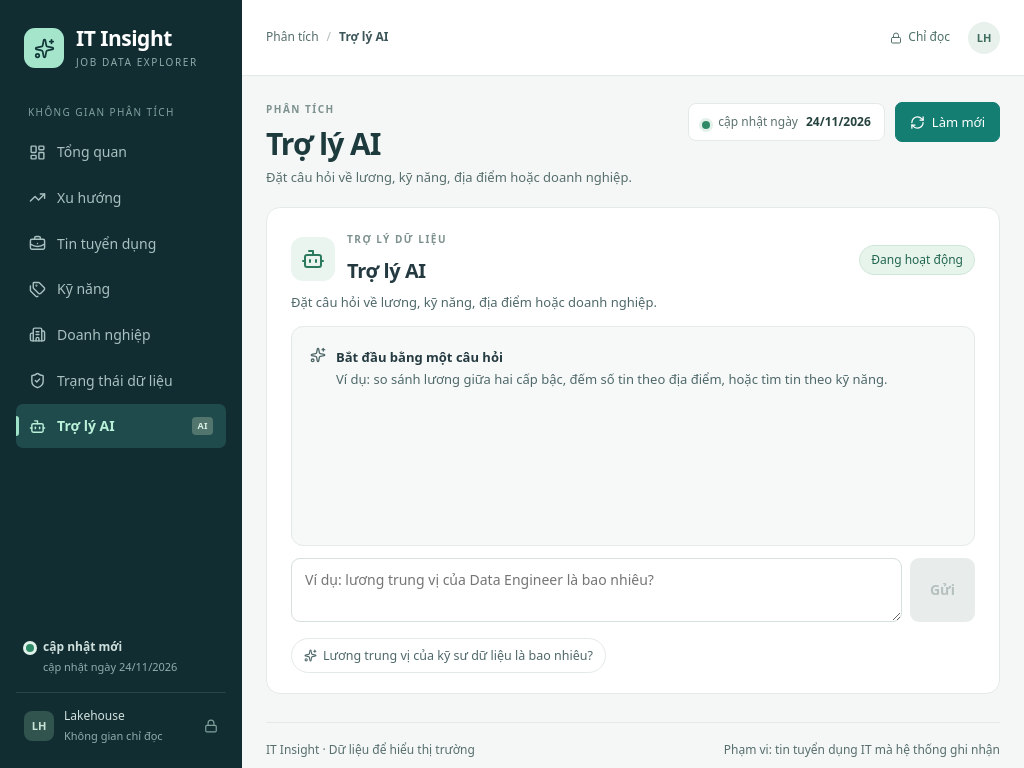
assistant rendering (stubbed API) › renders bold, a real table and job actions without exposing SQL
Type "Lương Data Engineer?" into the text box named "Câu hỏi cho trợ lý AI" at (596, 590), box [291,558,902,622]
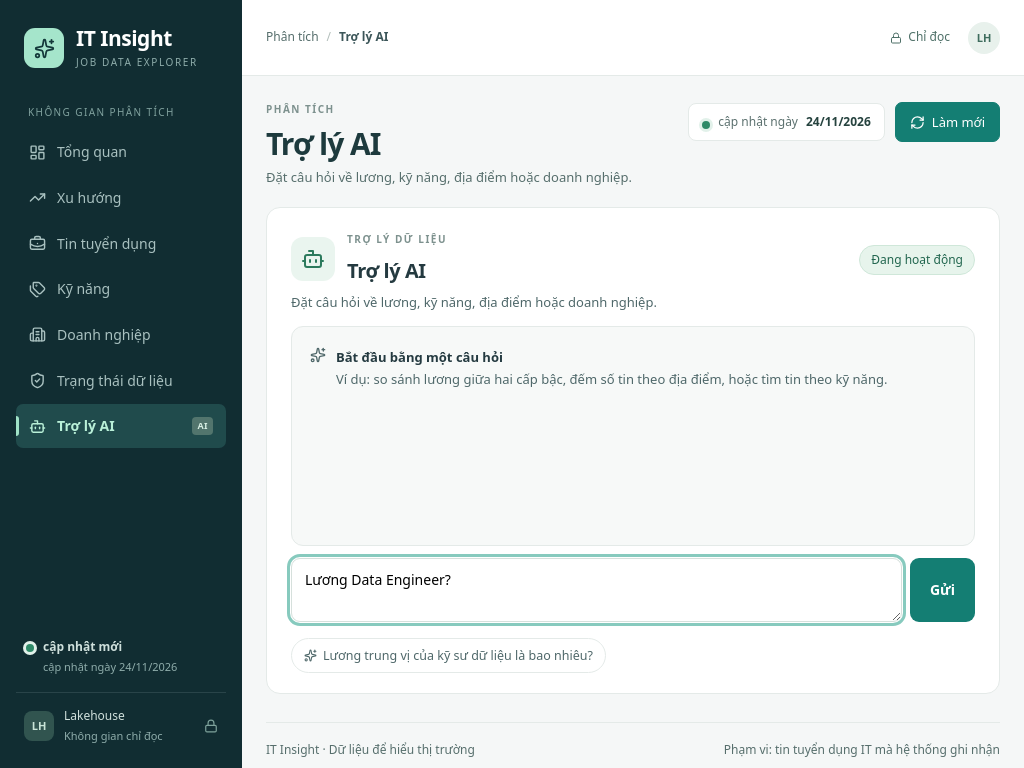
Click the button "Gửi" at (942, 590), box [910,558,975,622]
(page scrolled)
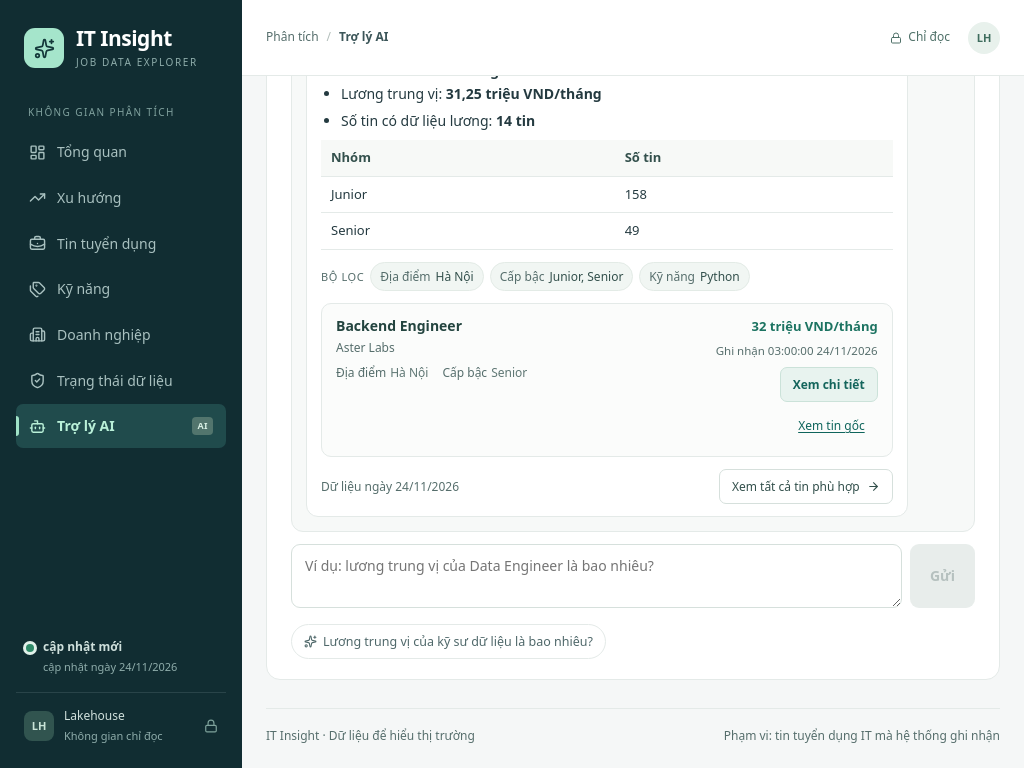
Result: the table is shown at [321,140,893,250]
Result: the button "Xem chi tiết" is shown at [780,367,878,402]
Result: the text "32 triệu VND/tháng" is shown at [752,316,878,337]
